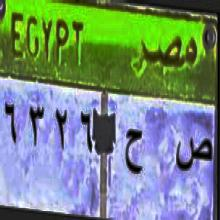2: (52, 100, 70, 161)
3: (27, 97, 46, 153)
6: (3, 97, 21, 150), (78, 112, 93, 164)
7aa: (122, 116, 144, 184)
saad: (172, 134, 214, 176)
